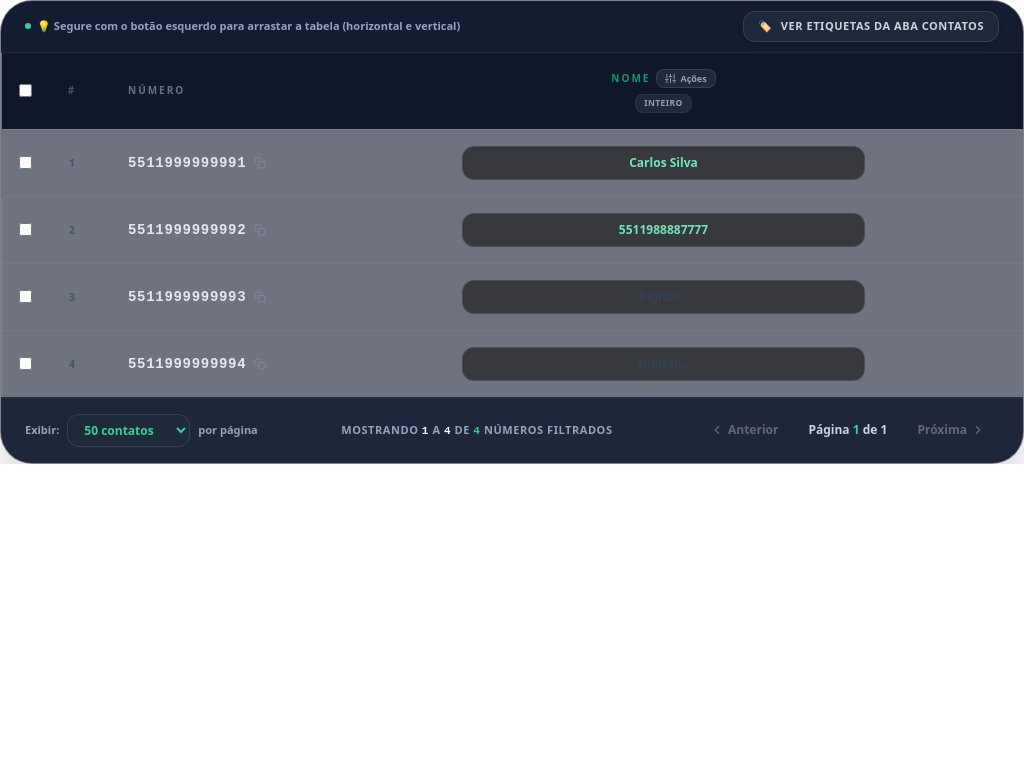
ContactTable - Cópia de Telefone e Gerenciamento de Variáveis › Modal de Ações e Filtro de Variáveis › deve filtrar a tabela para exibir apenas contatos com números na variável
Abre o modal
Click the button "Ações": point(686, 78) [656,68,716,88]
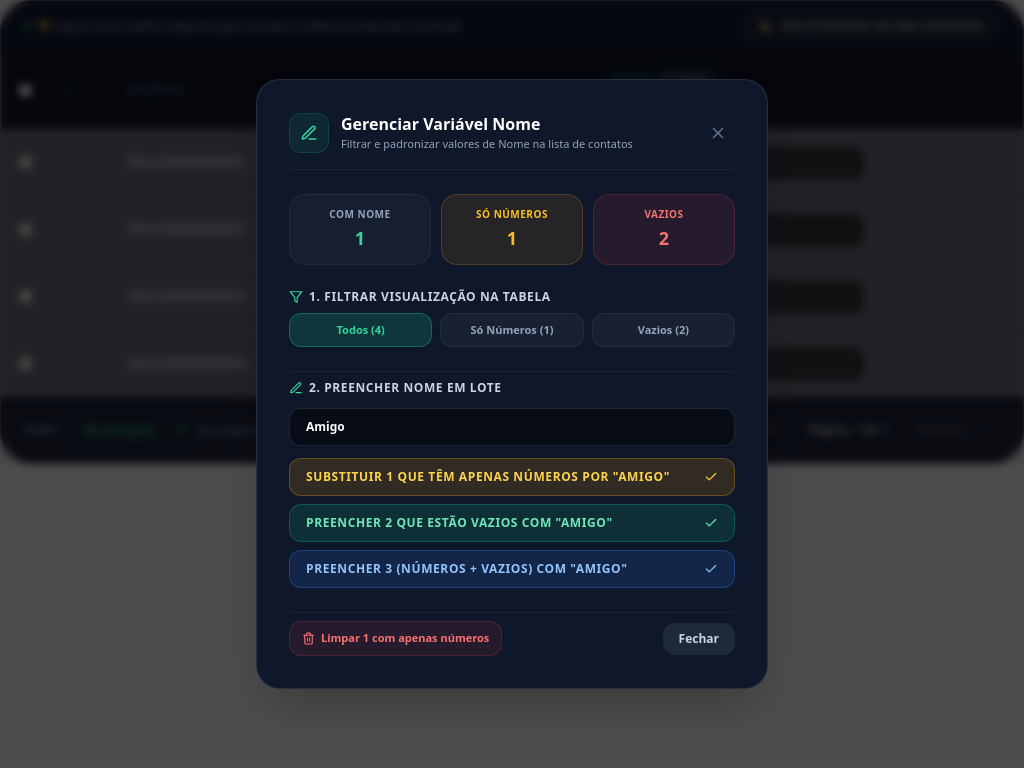
Clica no botão "Só Números" do modal
Click the button "Só Números (1)": point(512, 330) [440,313,584,347]
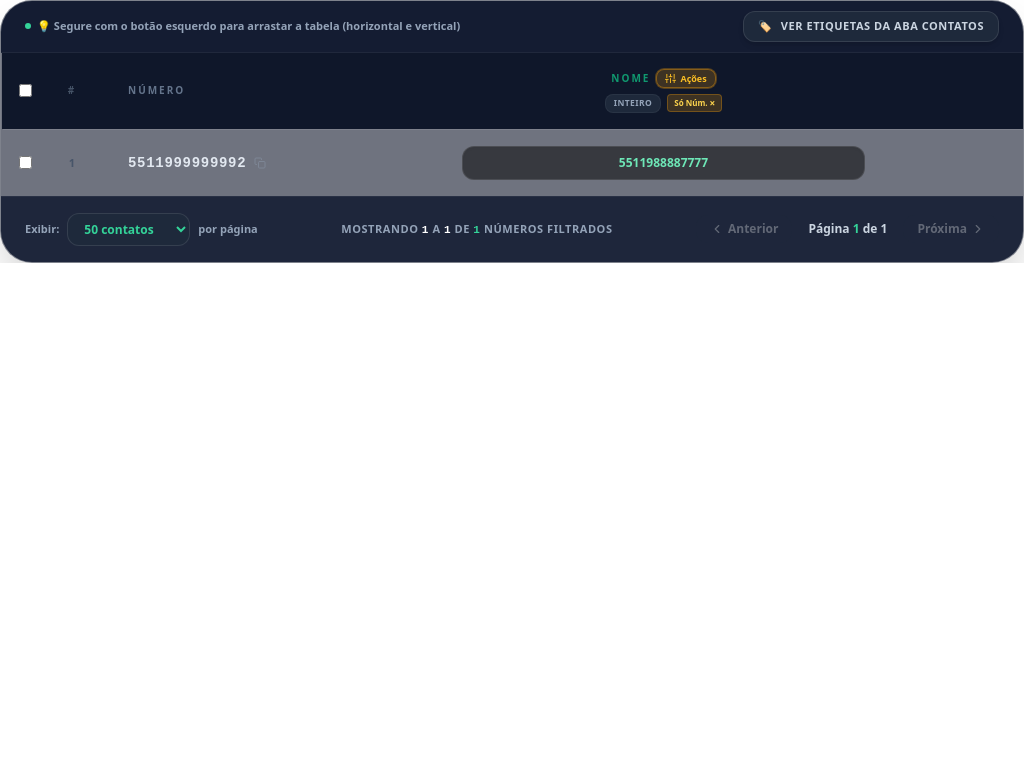
Result: the button "5511999999991" is gone
Result: the button "5511999999993" is gone
Result: the text "Só Núm." is shown at [674,97,708,109]
